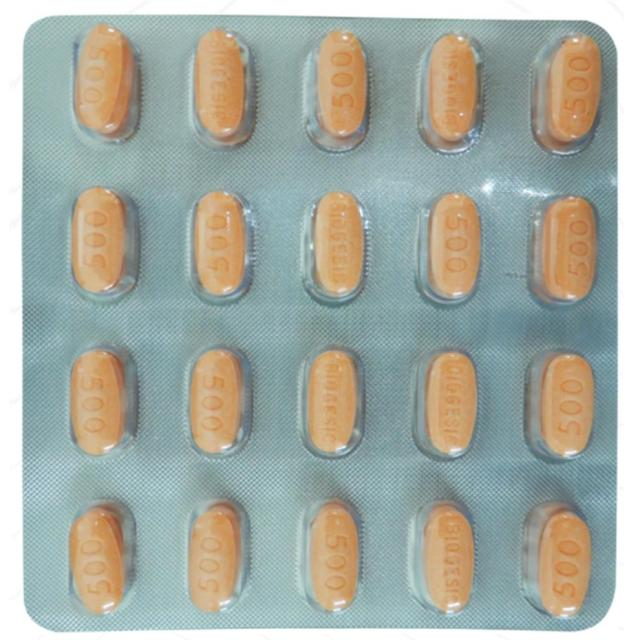blister: (21, 8, 620, 638)
